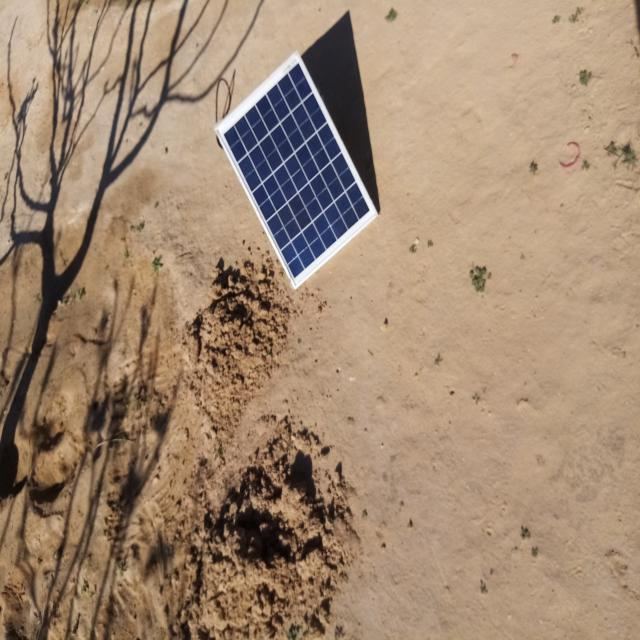no faulty: (214, 52, 378, 289)
